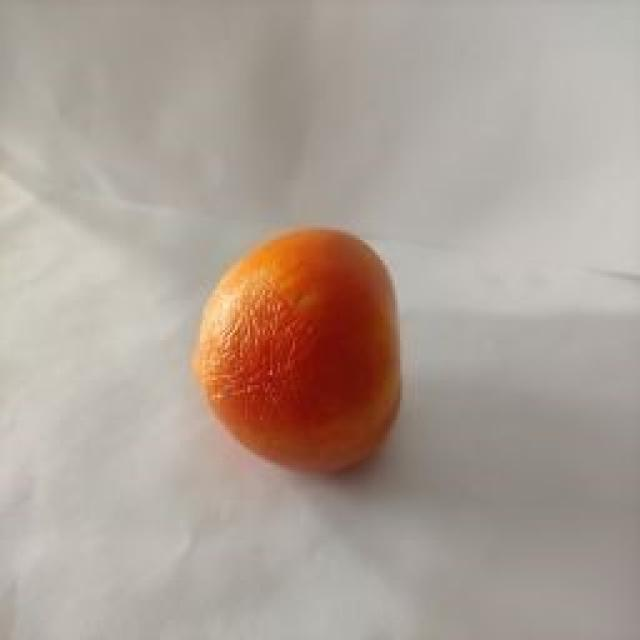unripe: (70, 58, 540, 568)
